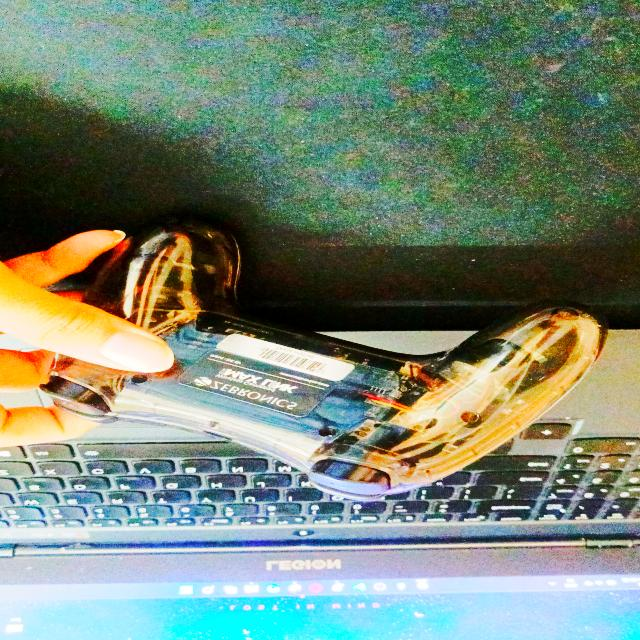gamepad: (34, 218, 609, 502)
